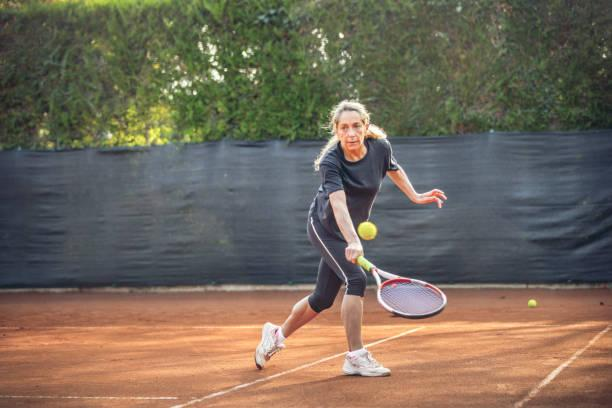ball_tennis: (358, 220, 377, 239), (529, 297, 538, 309)
